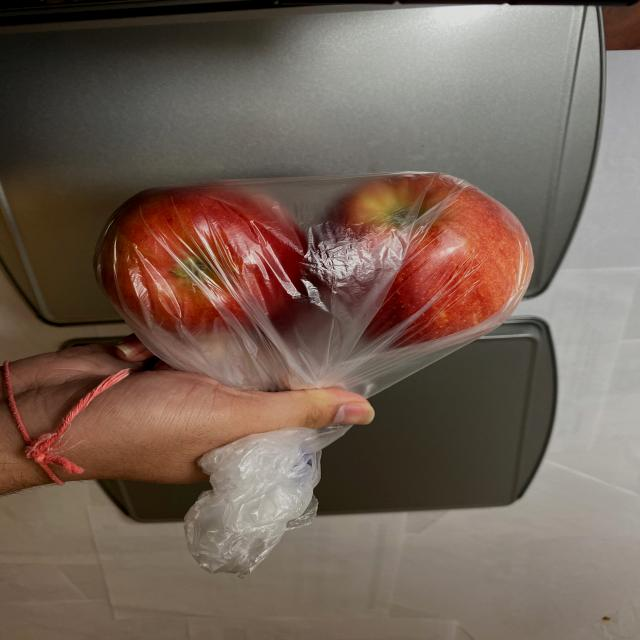apple: (87, 168, 545, 348)
